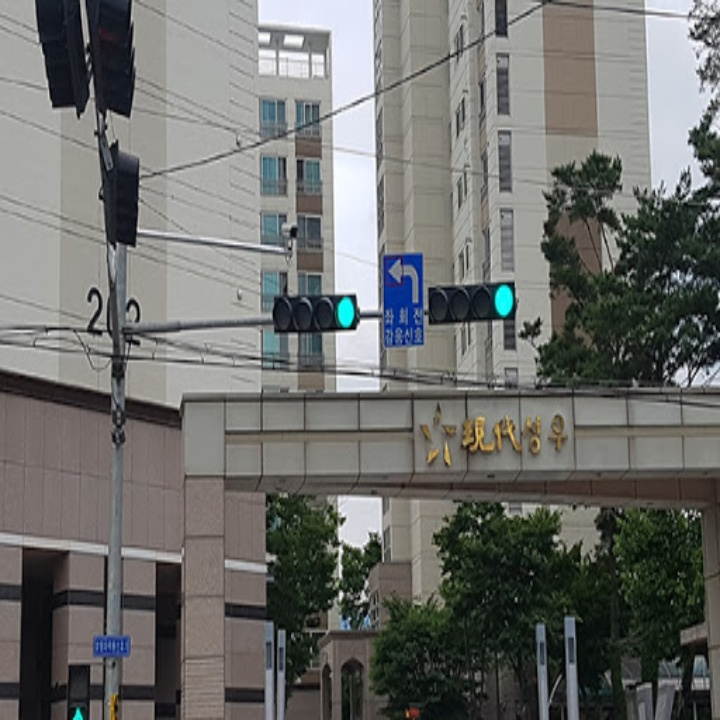left: (383, 255, 425, 306)
